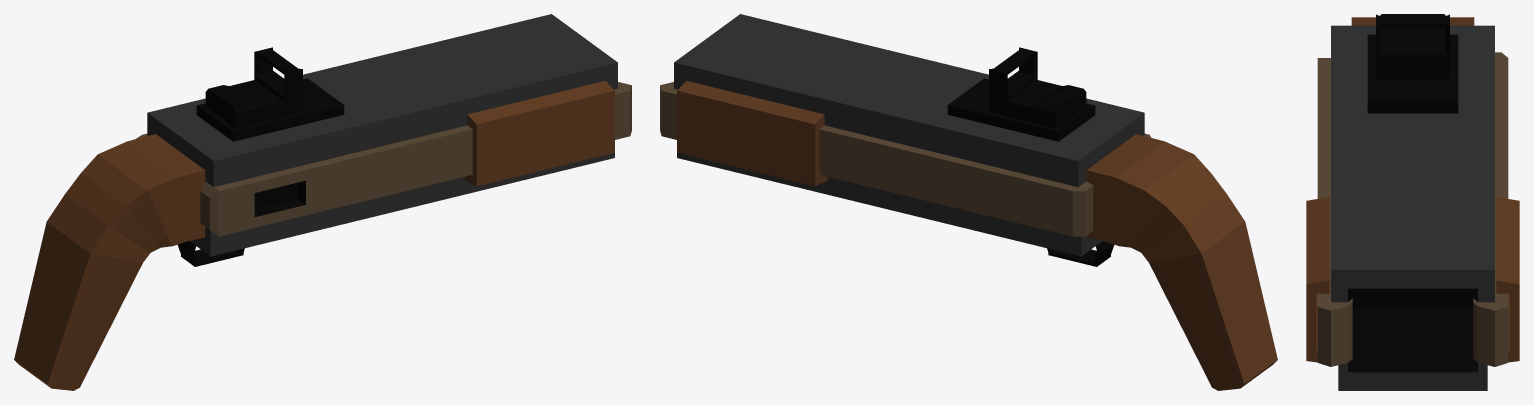
The model's file is shotgun.glb.
3 renders of one model, left to right at view 1: azimuth 30°, elevation 25°; view 2: azimuth 150°, elevation 25°; view 3: azimuth 270°, elevation 25°, orthographic. The views are drawn at different scales.
Parts seen in each view (by area): view 1: Cube, Cube.002; view 2: Cube, Cube.001; view 3: Cube, Cube.001, Cube.002.
Boxes of the visible parts, left/top/right/bottom form: Cube: left=14, top=14, right=631, bottom=390; Cube.002: left=464, top=81, right=614, bottom=186; Cube: left=660, top=14, right=1277, bottom=390; Cube.001: left=677, top=81, right=827, bottom=186; Cube: left=1317, top=14, right=1508, bottom=390; Cube.001: left=1496, top=197, right=1519, bottom=362; Cube.002: left=1306, top=197, right=1329, bottom=362.
Size of the model in its own units: 1.22 by 0.5463 by 0.321.
